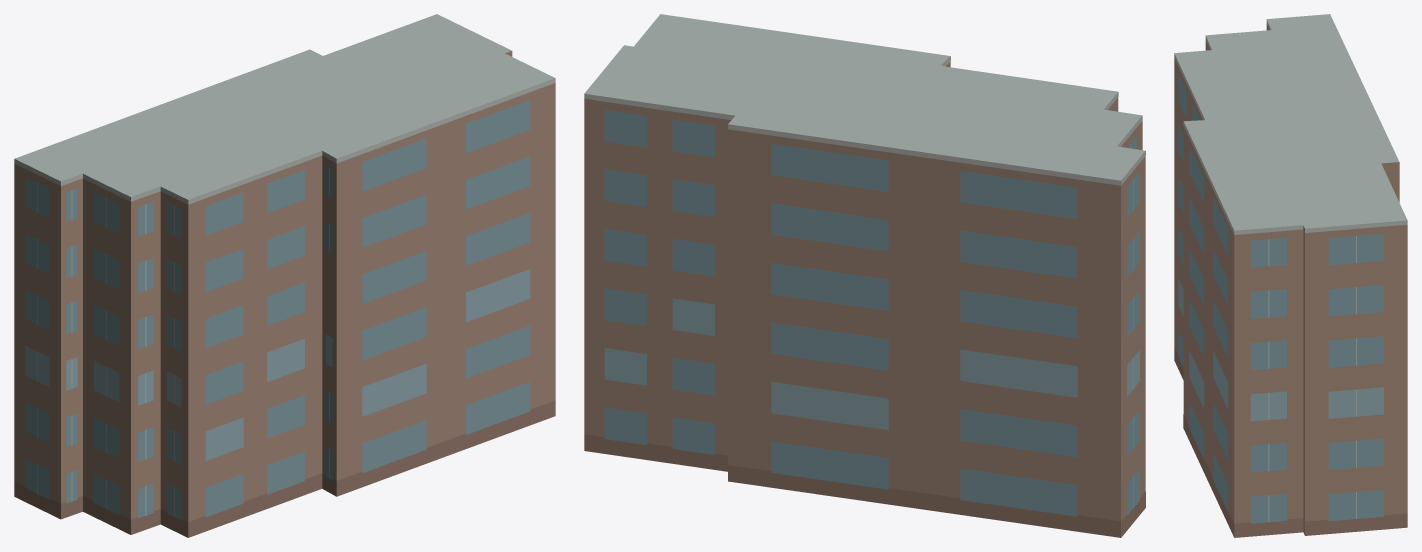
File: survey-upis-32712061.glb
3 renders of one model, left to right at view 1: azimuth 30°, elevation 25°; view 2: azimuth 150°, elevation 25°; view 3: azimuth 270°, elevation 25°, orthographic. The views are drawn at different scales.
Visible parts, largest first — view 1: survey-upis-32712061.tmp; view 2: survey-upis-32712061.tmp; view 3: survey-upis-32712061.tmp.
Part boxes in pixels (<box>): survey-upis-32712061.tmp: <box>14,14,555,537</box>; survey-upis-32712061.tmp: <box>584,14,1145,537</box>; survey-upis-32712061.tmp: <box>1174,14,1407,537</box>.
Size of the model in its own units: 26.18 by 17.3 by 11.92.
